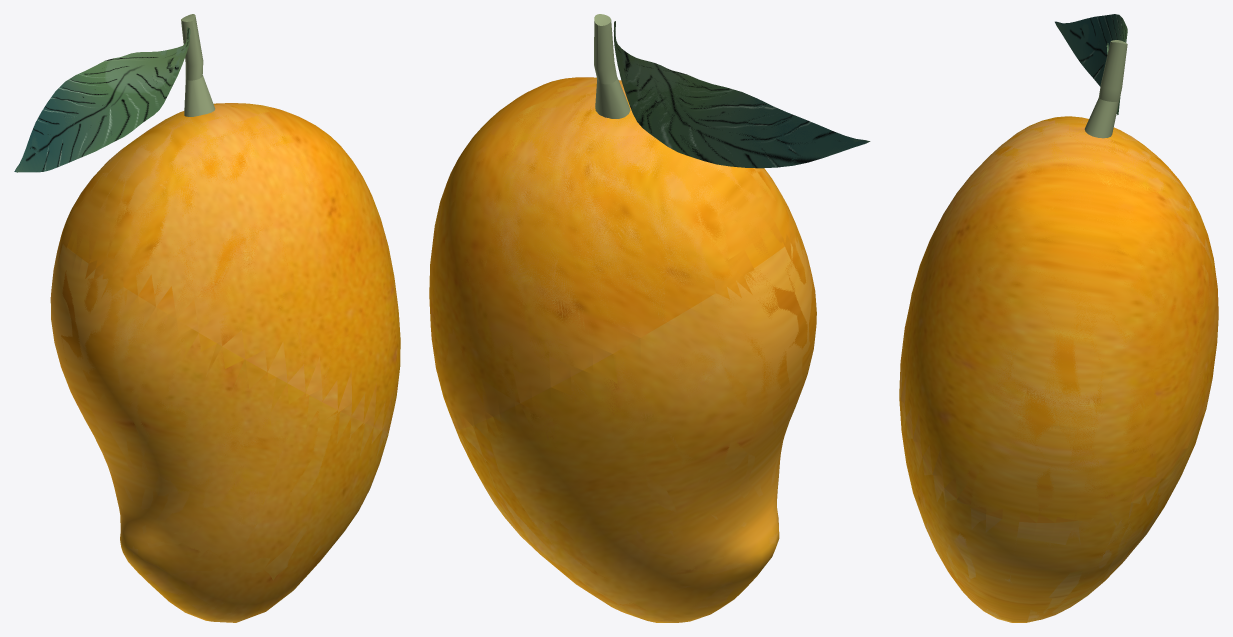
The model's file is mango (1).fbx.
3 renders of one model, left to right at view 1: azimuth 30°, elevation 25°; view 2: azimuth 150°, elevation 25°; view 3: azimuth 270°, elevation 25°, orthographic. The views are drawn at different scales.
Parts seen in each view (by area): view 1: Mango1, mango_cut_B, mango_cut_A; view 2: mango_cut_A, mango_cut_B, Mango1; view 3: Mango1, mango_cut_A, mango_cut_B.
Part boxes in pixels (x1,y1,x2,y2): Mango1: (16,17,400,622); mango_cut_B: (50,242,388,621); mango_cut_A: (14,14,399,431); mango_cut_A: (429,14,866,429); mango_cut_B: (456,234,816,622); Mango1: (429,14,870,622); Mango1: (900,14,1218,622); mango_cut_A: (900,21,1218,522); mango_cut_B: (899,380,1210,622).
Bounding box in the file's own units: 896 × 1308 × 653.
